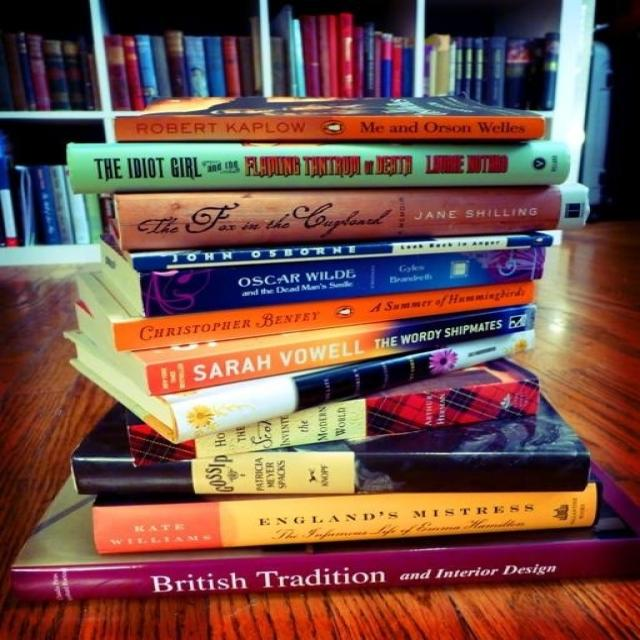book: (175, 332, 539, 445), (13, 545, 639, 609), (96, 237, 560, 321), (150, 303, 533, 396), (97, 184, 574, 253), (74, 138, 576, 192), (108, 94, 554, 144)
